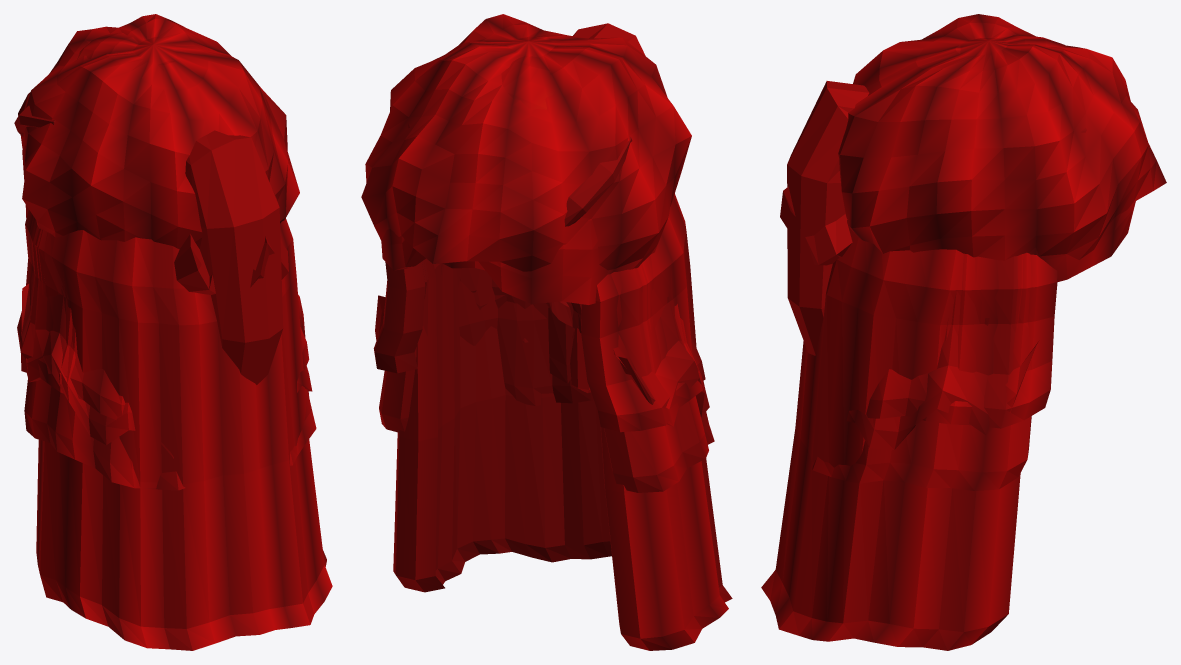
File: creator-hair.glb
3 views of the same model, side by side, from view 1: azimuth 30°, elevation 25°; view 2: azimuth 150°, elevation 25°; view 3: azimuth 270°, elevation 25° (orthographic). The views are drawn at different scales.
Visible parts, largest first — view 1: f_long, m_perm, f_pony, f_lob, f_wolf, f_bangs, f_bun, m_fade, m_part, m_crop; view 2: f_long, m_perm, f_bangs, f_lob, f_wolf, m_part, m_fade, m_crop, f_pony, m_mullet; view 3: f_long, m_perm, f_bangs, f_lob, f_pony, f_wolf, m_part, f_bun.
Part boxes in pixels (x1,y1,x2,y2): f_long: (36,218,332,650); m_perm: (18,14,299,248); f_pony: (185,130,283,384); f_lob: (24,229,316,490); f_wolf: (21,216,312,458); f_bangs: (17,210,309,419); f_bun: (174,234,288,294); m_fade: (77,33,138,59); m_part: (22,55,186,217); m_crop: (14,105,55,136); f_long: (393,193,732,650); m_perm: (361,14,691,274); f_bangs: (373,254,705,432); f_lob: (379,259,714,492); f_wolf: (375,260,709,426); m_part: (381,35,607,304); m_fade: (501,56,555,109); m_crop: (564,136,632,226); f_pony: (570,23,645,393); m_mullet: (546,301,581,332); f_long: (761,220,1020,650); m_perm: (838,14,1166,260); f_bangs: (866,253,1057,428); f_lob: (812,254,1031,490); f_pony: (787,81,869,355); f_wolf: (846,252,1038,449); m_part: (918,45,1135,281); f_bun: (780,186,852,265).
Size of the model in its own units: 0.253 by 0.506 by 0.3301.
